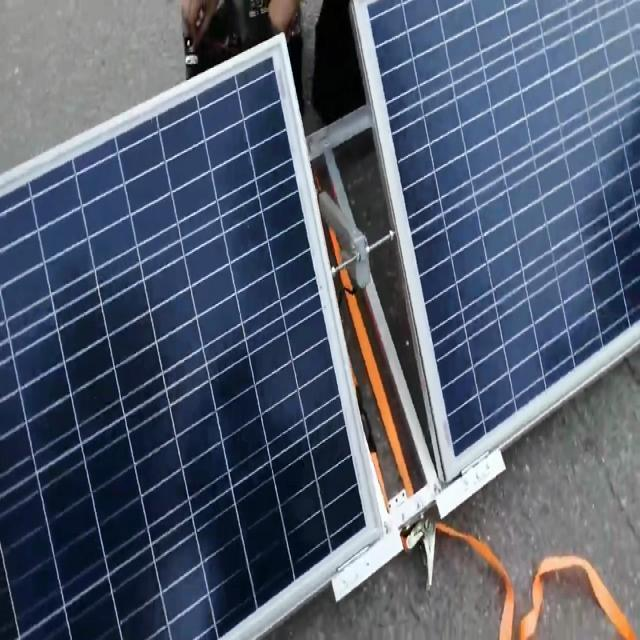Normal Solar Panel: (0, 40, 382, 639), (353, 1, 640, 480)
